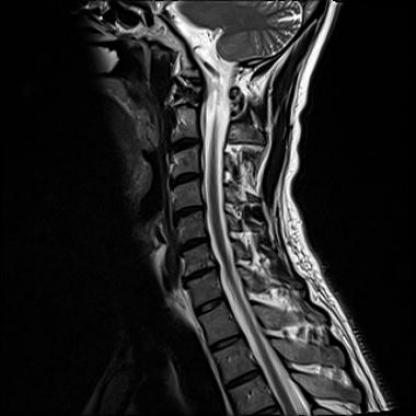Disc Bulgerotation: (180, 264, 218, 283), (170, 204, 206, 219)
